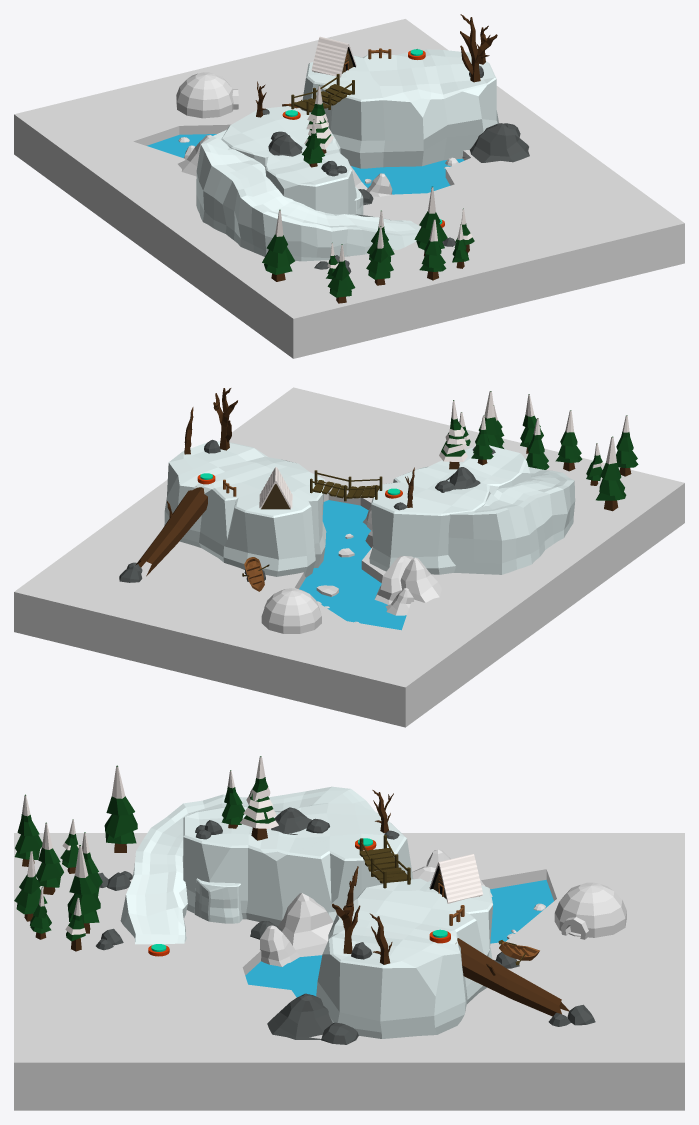
File: map.fbx
The picture shows the model from 3 angles, top to bottom: view 1: azimuth 30°, elevation 25°; view 2: azimuth 150°, elevation 25°; view 3: azimuth 270°, elevation 25°; orthographic projection. The views are drawn at different scales.
Parts seen in each view (by area): view 1: Cube, Cube.415, Cube.001, Cube.002, Sphere.001, Cube.005, Plane.009, Cube.338; view 2: Cube, Cube.415, Cube.002, Cube.001, Sphere.001, Plane.006, Cube.357, Cube.356, Plane.009; view 3: Cube, Cube.415, Cube.002, Cube.001, Plane.006, Sphere.001, Cube.354, Cube.005, Cube.003, Plane.009, Cube.353, Cube.338 (+4 smaller).
Part boxes in pixels (x1,y1,x2,y2): Cube: (14, 19, 684, 358); Cube.415: (301, 49, 498, 168); Cube.001: (196, 129, 420, 261); Cube.002: (221, 106, 356, 214); Sphere.001: (176, 72, 233, 118); Cube.005: (462, 123, 529, 162); Plane.009: (311, 36, 356, 77); Cube.338: (268, 134, 302, 156); Cube: (14, 387, 684, 727); Cube.415: (164, 441, 326, 577); Cube.002: (369, 445, 531, 574); Cube.001: (448, 467, 575, 574); Sphere.001: (261, 588, 321, 633); Plane.006: (135, 486, 207, 576); Cube.357: (400, 557, 441, 602); Cube.356: (374, 556, 432, 604); Plane.009: (259, 467, 292, 509); Cube: (14, 833, 684, 1110); Cube.415: (316, 878, 493, 1038); Cube.002: (183, 803, 413, 925); Cube.001: (120, 786, 375, 944); Plane.006: (455, 938, 569, 1016); Sphere.001: (554, 882, 626, 937); Cube.354: (278, 893, 333, 956); Cube.005: (267, 993, 332, 1039); Cube.003: (194, 878, 242, 923); Plane.009: (429, 854, 482, 903); Cube.353: (260, 925, 299, 966); Cube.338: (271, 807, 311, 834).
Size of the model in its own units: 9740 by 3961 by 12042.
